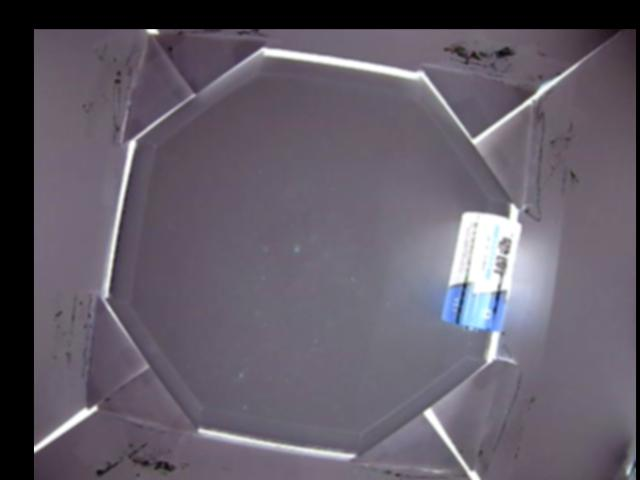Battery: (441, 209, 521, 334)
